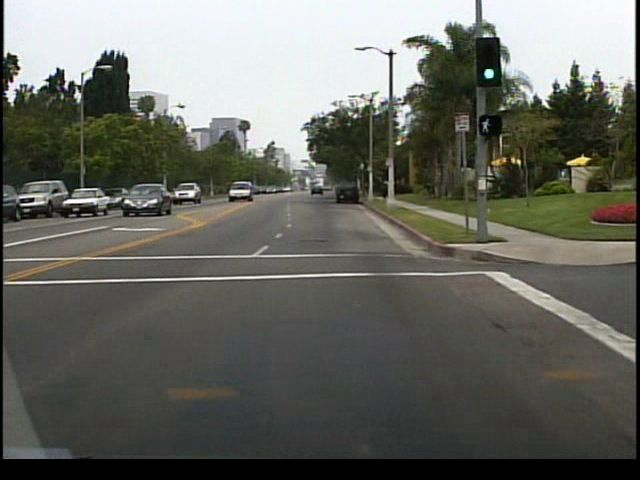person: (383, 173, 396, 200), (384, 179, 385, 201)
